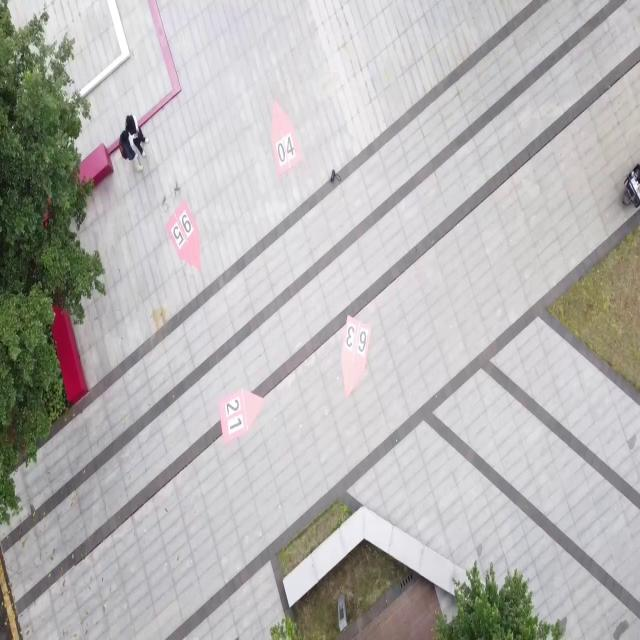-sign-: (218, 387, 264, 446), (166, 199, 202, 274), (340, 314, 372, 398), (270, 97, 302, 175)
